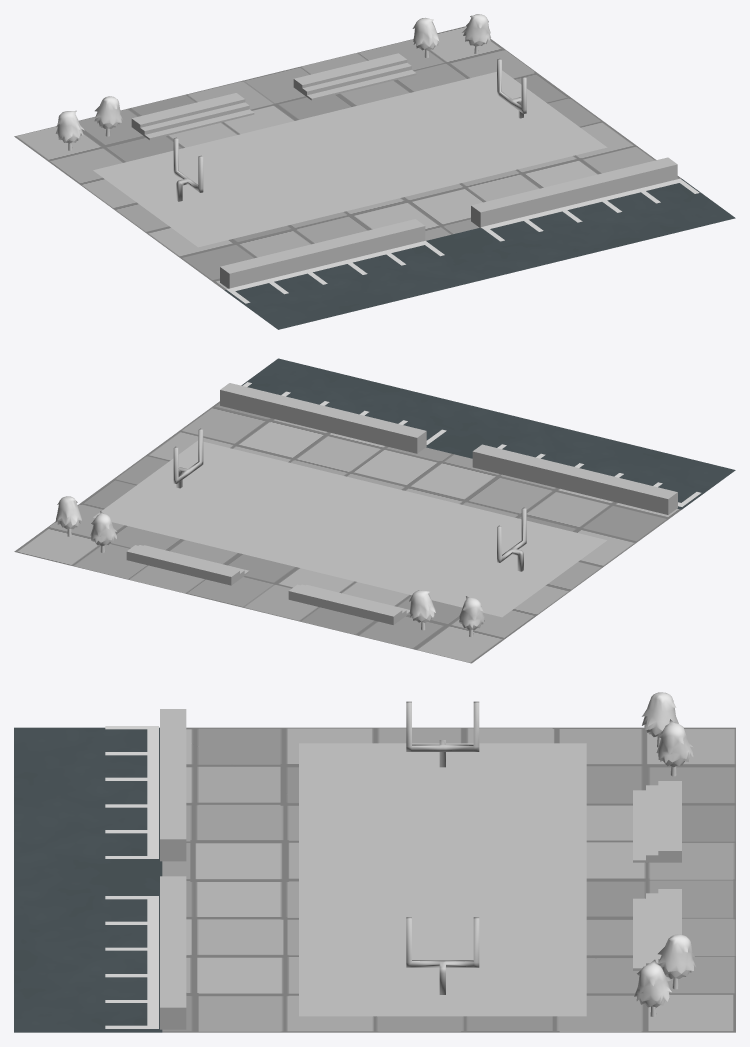
File: tile_poi_football_field_6x6_c.fbx
3 renders of one model, top to bottom at view 1: azimuth 30°, elevation 25°; view 2: azimuth 150°, elevation 25°; view 3: azimuth 270°, elevation 25°, orthographic. The views are drawn at different scales.
Visible parts, largest first — view 1: tile_poi_football_field_6x6_c; view 2: tile_poi_football_field_6x6_c; view 3: tile_poi_football_field_6x6_c.
Boxes of the visible parts, bbox=[...] form: tile_poi_football_field_6x6_c: bbox=[14, 14, 735, 329]; tile_poi_football_field_6x6_c: bbox=[14, 358, 735, 663]; tile_poi_football_field_6x6_c: bbox=[14, 692, 735, 1032].
Bounding box in the file's own units: 9600 × 1098 × 9600.
